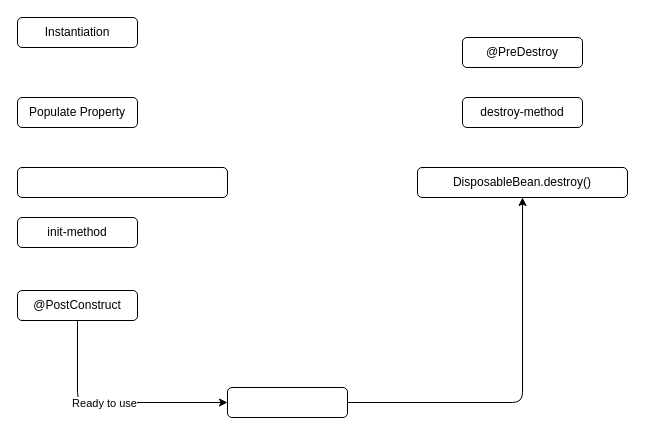
Image size: 645x435. Some labels were removed from this diagram. The centre of each missing label's shape, as x and y in pixels:
"InitializingBean.afterProperyiesSet()" belongs at [122,182].
"Performing Task" belongs at [287,402].
